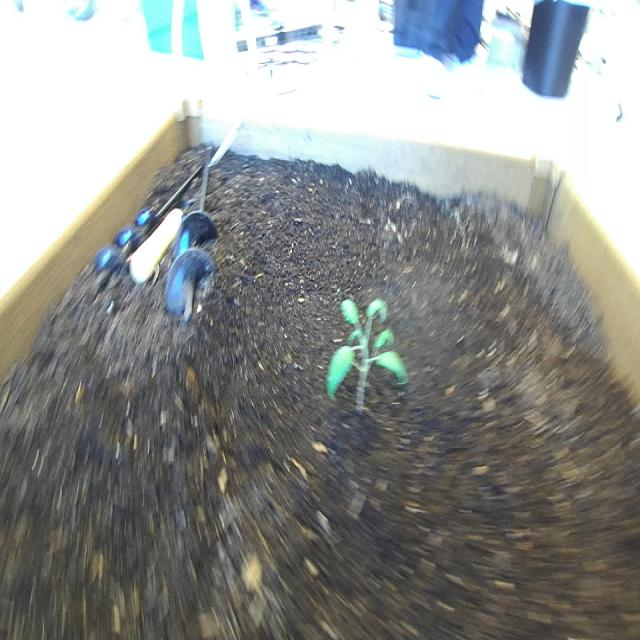Healthy: (320, 282, 412, 426)
